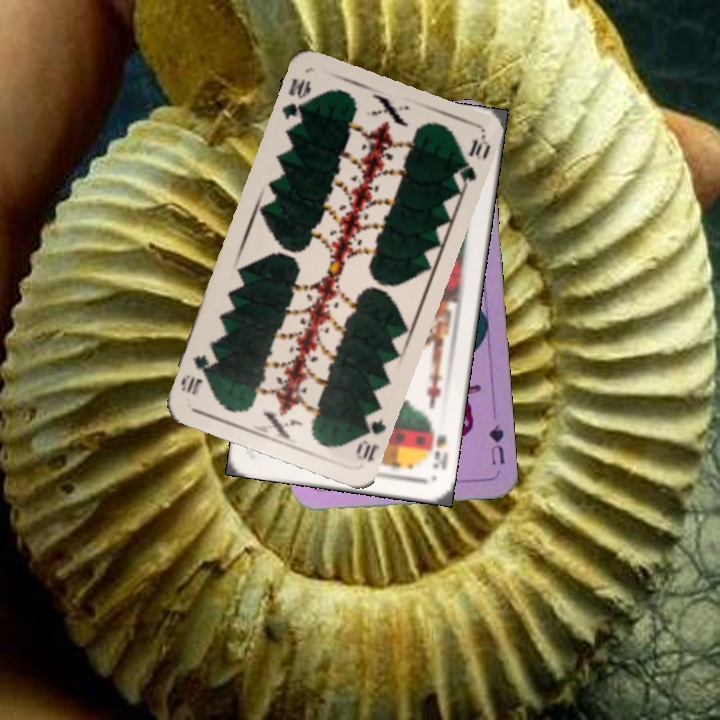G10: (351, 407, 388, 466), (277, 74, 314, 123)
GU: (484, 421, 508, 467)
SK: (429, 430, 451, 472)
